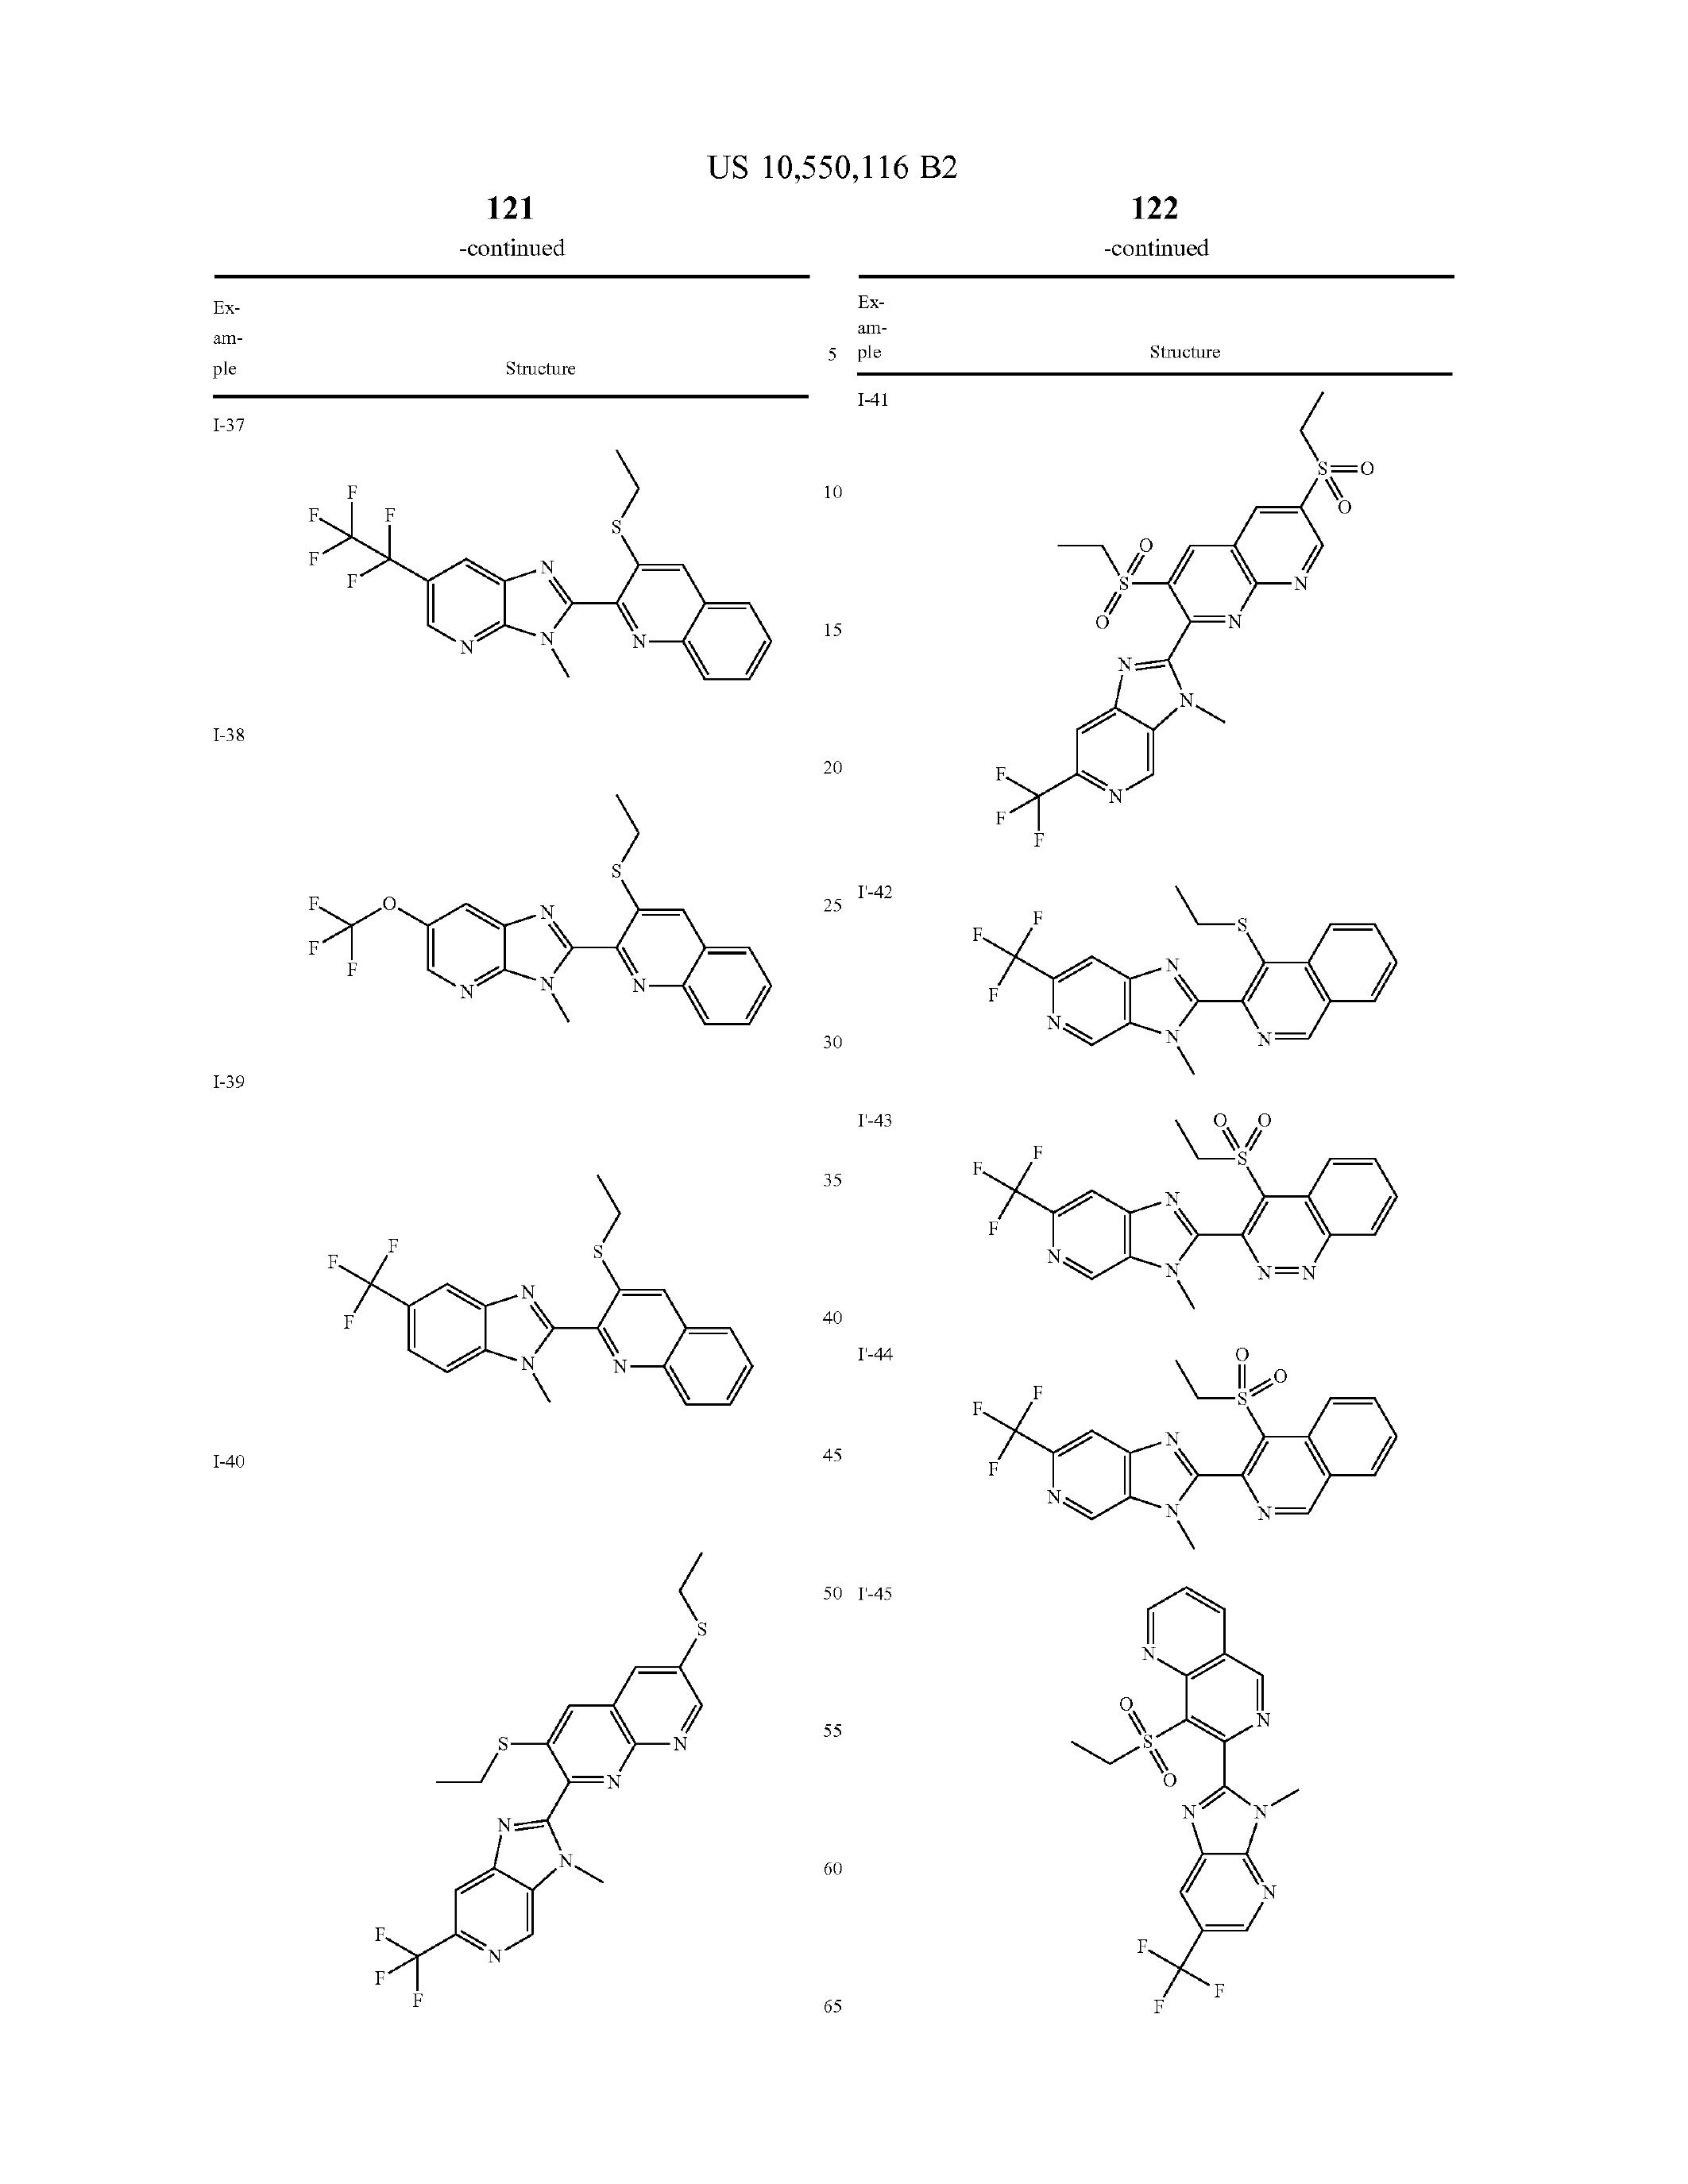relevant-structures: (291, 1562, 782, 2047), (988, 1592, 1374, 2149), (966, 401, 1399, 847), (268, 415, 793, 730), (275, 792, 803, 1099), (298, 1158, 755, 1487), (924, 1324, 1427, 1588), (957, 1101, 1443, 1314), (973, 877, 1452, 1090)
